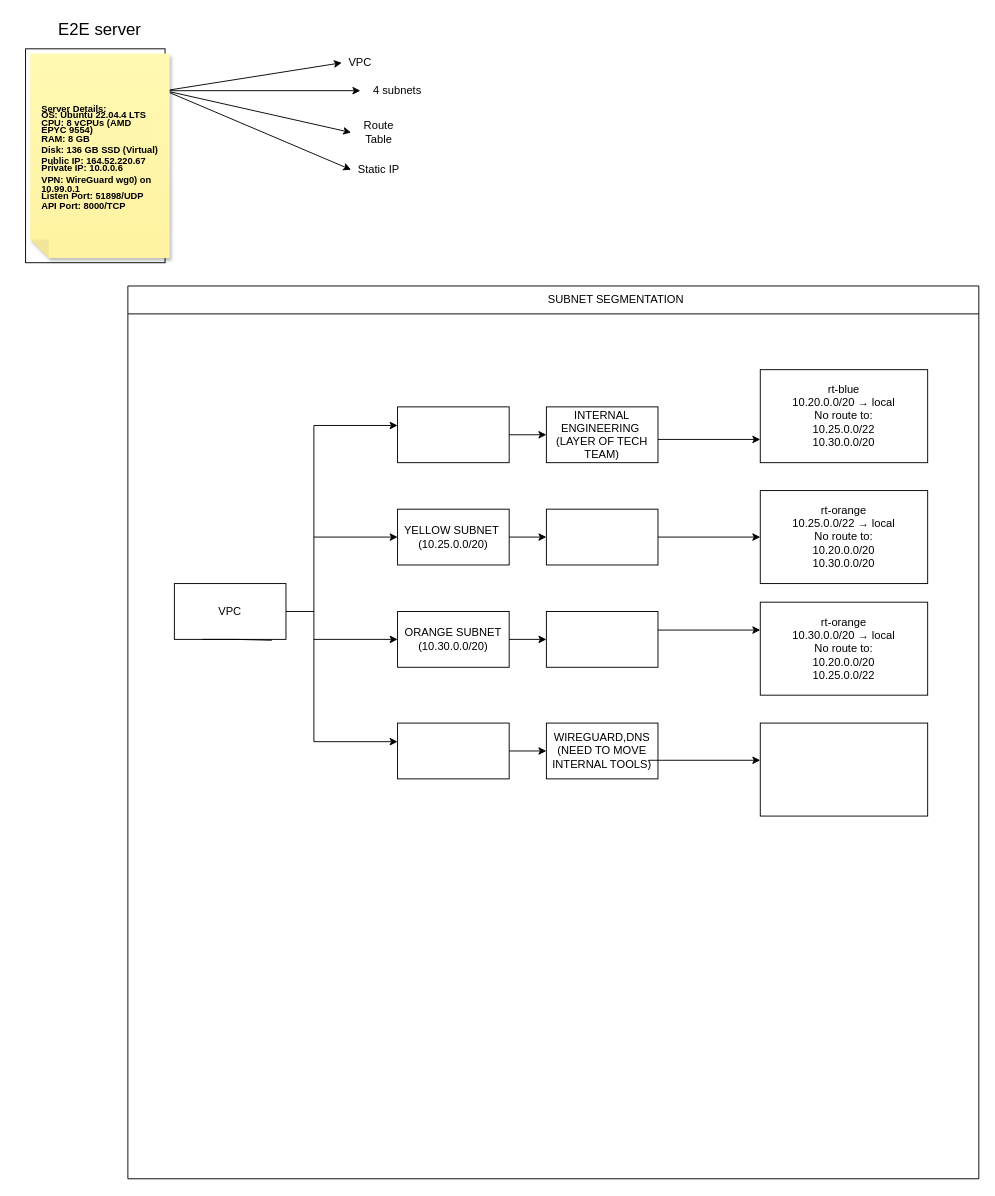
This 995x1196 diagram has some shape labels left out. The centre of each missing label's shape, as x and y in pixels:
BLUE SUBNET (10.20.0.0/20): (453,434)
EXTERNAL CLINTS (WITH KILL SWITCH): (601,639)
INFRA SUBNET (10.99.0.0/24): (453,750)
MERU APPLICATION: (601,536)
rt-infra 10.99.0.0/24 → local Segment networks reachable via wg0: (843,769)
